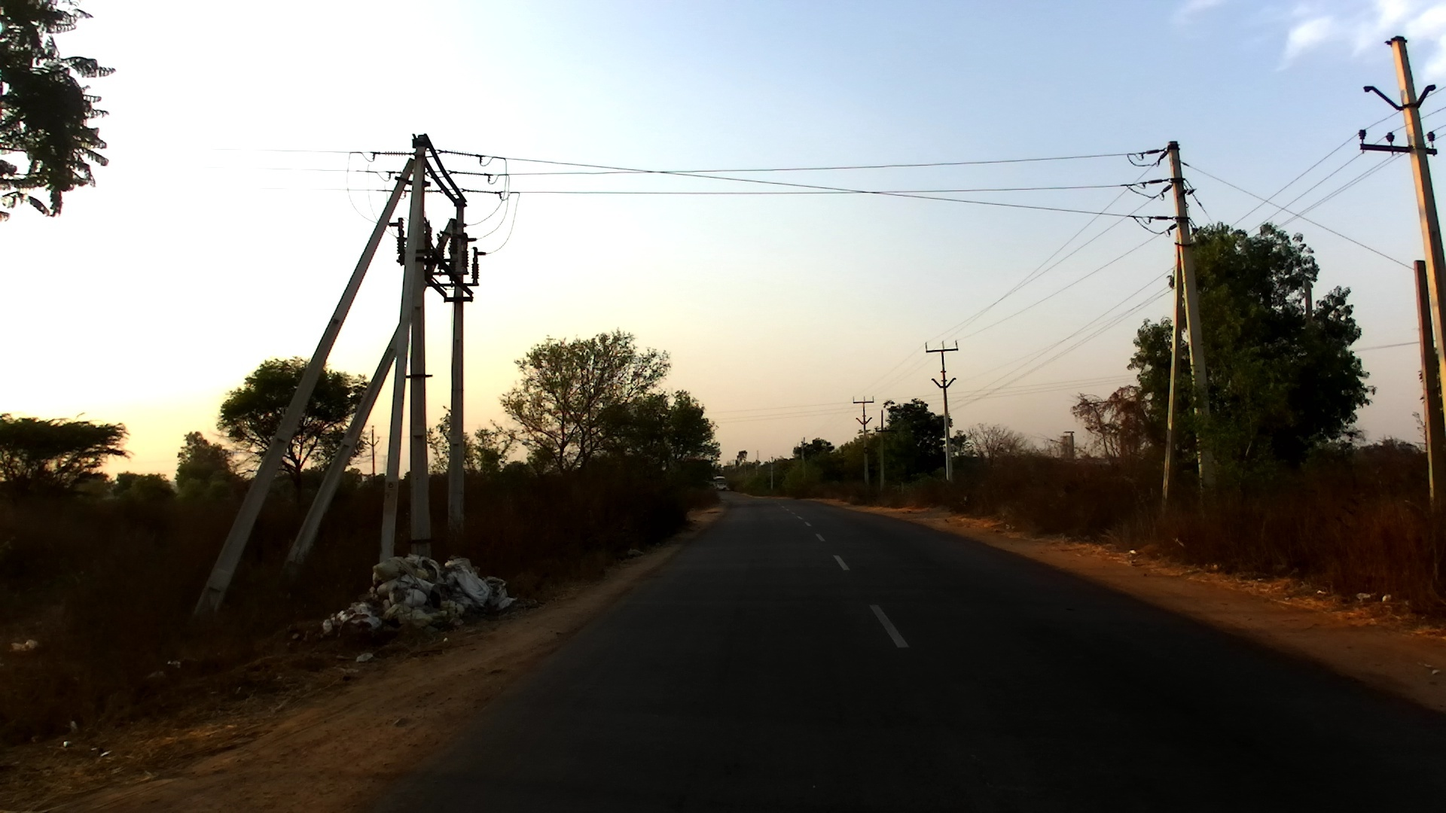bus: (712, 476, 728, 492)
